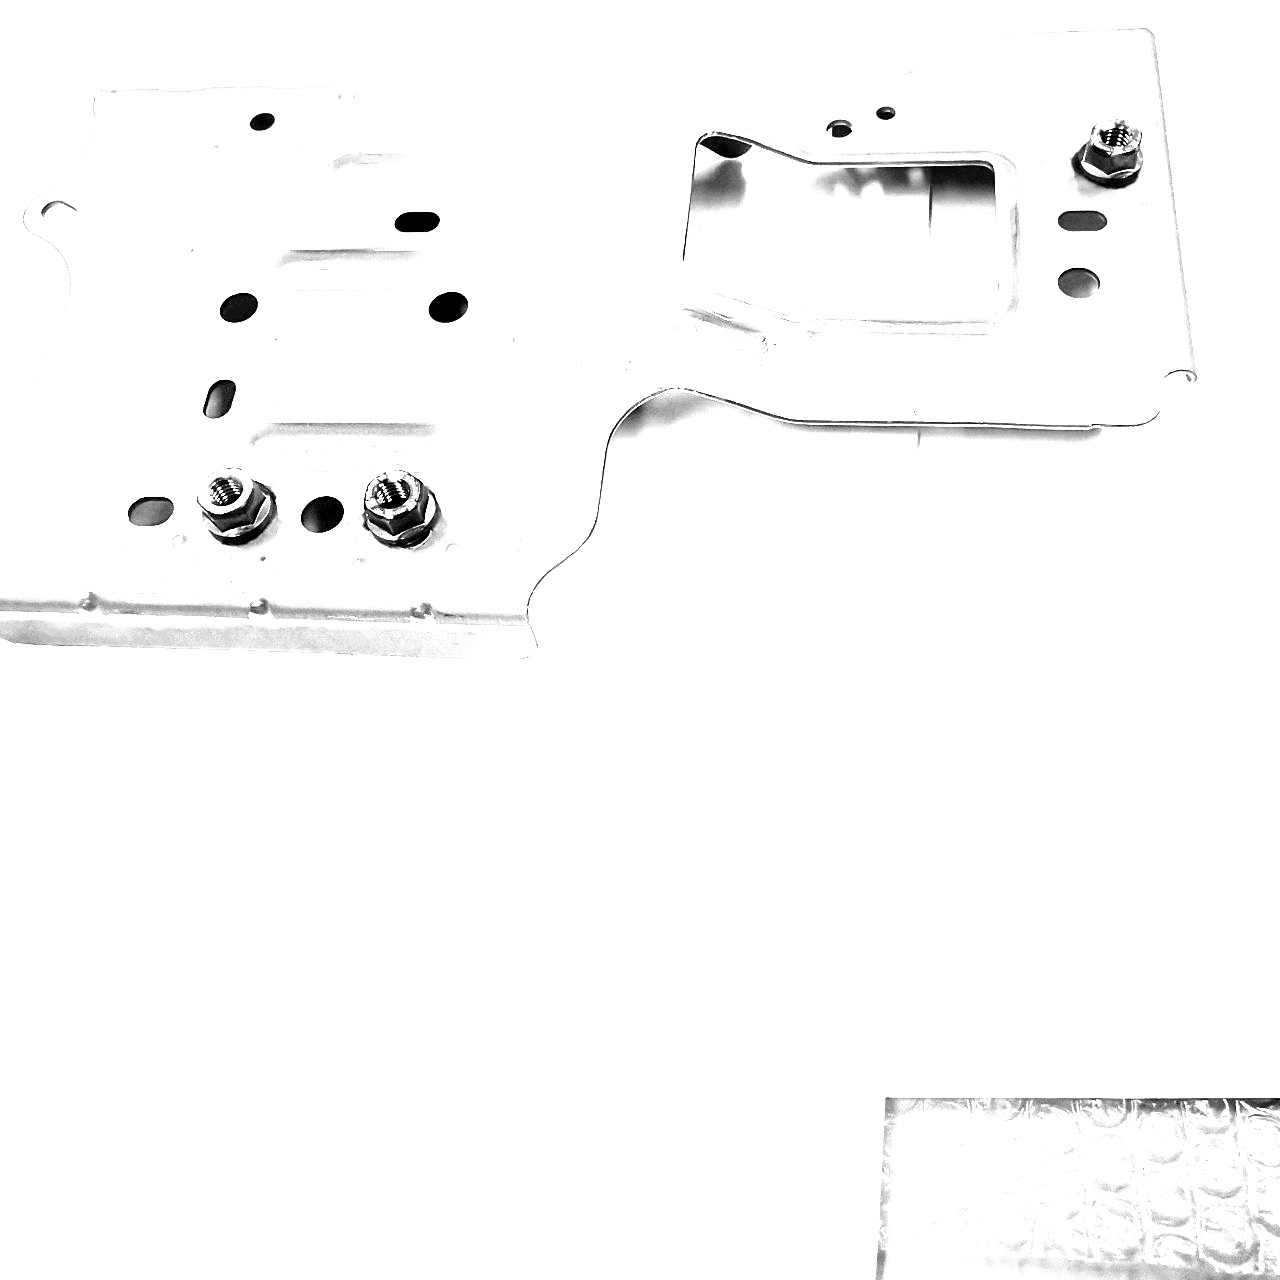dog: (358, 467, 445, 554), (196, 462, 274, 549), (1068, 116, 1148, 192)
